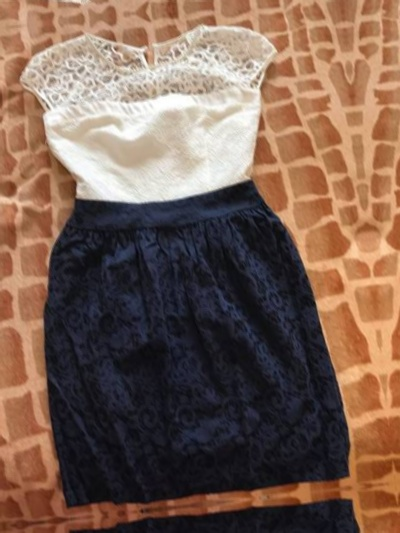Dress: (0, 0, 355, 515), (42, 496, 400, 533), (380, 0, 400, 471), (0, 0, 301, 25)
